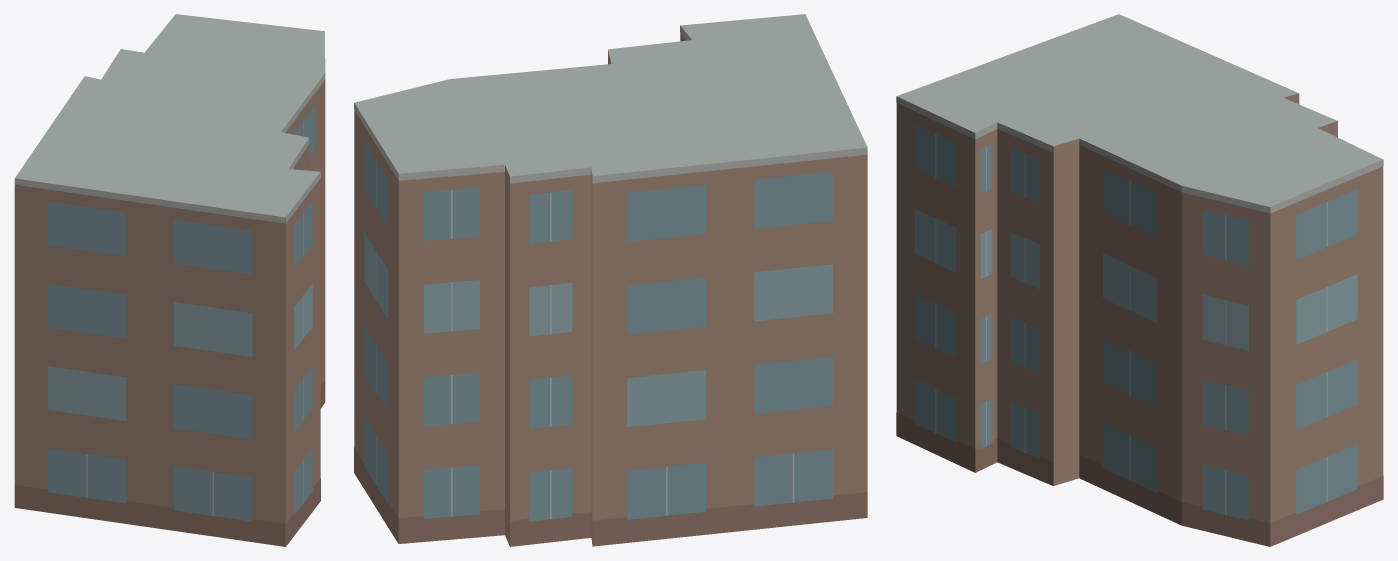
Rendered from survey-upis-32795606.glb.
3 views of the same model, side by side, from view 1: azimuth 30°, elevation 25°; view 2: azimuth 150°, elevation 25°; view 3: azimuth 270°, elevation 25° (orthographic). The views are drawn at different scales.
Visible parts, largest first — view 1: survey-upis-32795606.tmp; view 2: survey-upis-32795606.tmp; view 3: survey-upis-32795606.tmp.
Part boxes in pixels (x1,y1,x2,y2): survey-upis-32795606.tmp: [14, 14, 325, 546]; survey-upis-32795606.tmp: [354, 14, 867, 546]; survey-upis-32795606.tmp: [896, 14, 1383, 546].
Bounding box in the file's own units: 15.6 × 12.8 × 16.63.
